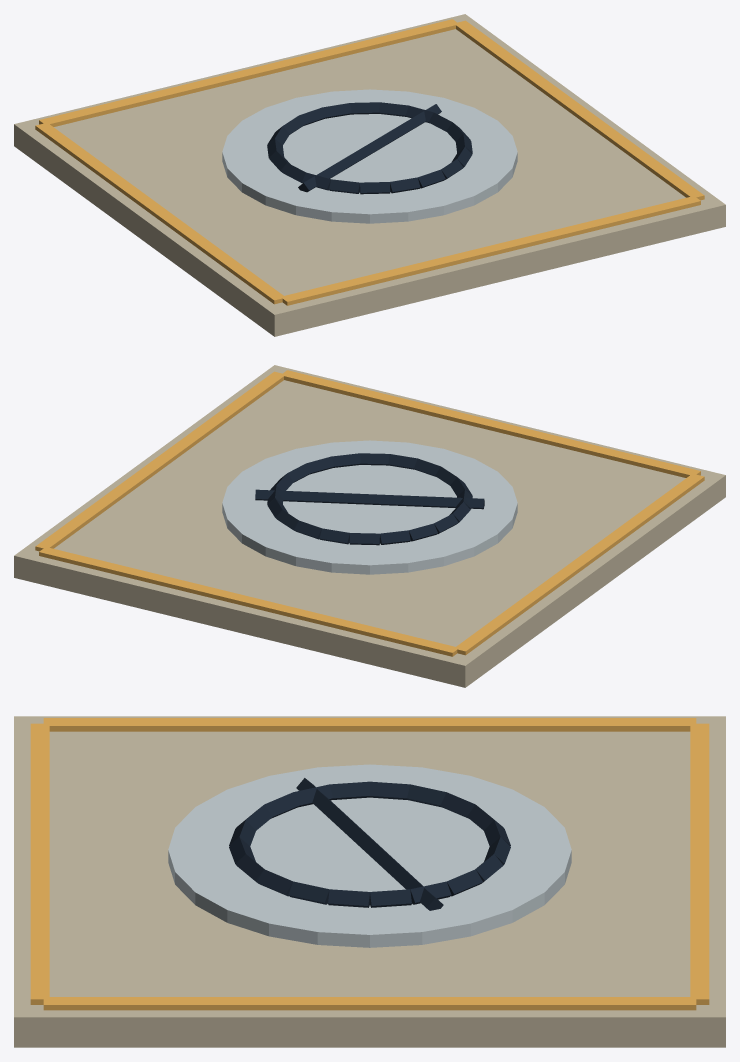
The model's file is space_die_event_face_6.glb.
The picture shows the model from 3 angles, top to bottom: view 1: azimuth 30°, elevation 25°; view 2: azimuth 150°, elevation 25°; view 3: azimuth 270°, elevation 25°; orthographic projection. The views are drawn at different scales.
Visible parts, largest first — view 1: FixedDetails, BrassTrim; view 2: FixedDetails, BrassTrim; view 3: FixedDetails, BrassTrim.
Boxes of the visible parts, bbox=[...] form: FixedDetails: bbox=[14, 14, 725, 336]; BrassTrim: bbox=[35, 19, 704, 305]; FixedDetails: bbox=[14, 365, 725, 687]; BrassTrim: bbox=[35, 370, 704, 656]; FixedDetails: bbox=[14, 716, 725, 1047]; BrassTrim: bbox=[30, 718, 709, 1010].
Bounding box in the file's own units: 0.6 × 0.056 × 0.6.
